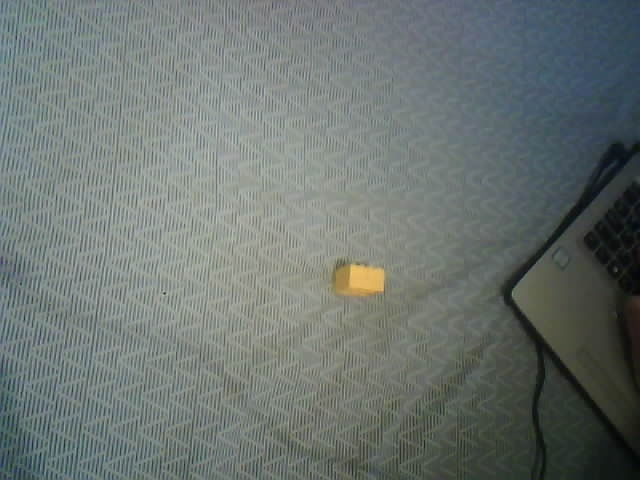lego: (333, 262, 386, 296)
